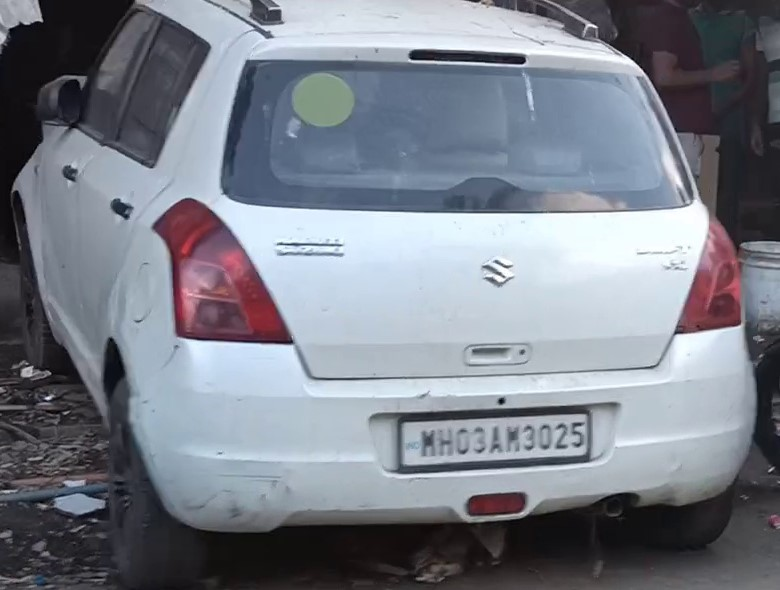MH03AM3025: (401, 414, 589, 464)
